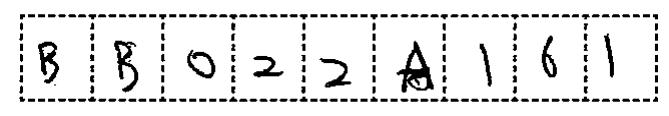0: (178, 42, 220, 86)
1: (466, 37, 504, 89), (592, 32, 626, 82)
2: (312, 50, 357, 93), (245, 48, 291, 85)
6: (532, 33, 567, 84)
A: (397, 38, 438, 96)
B: (110, 36, 145, 97), (31, 34, 65, 88)
